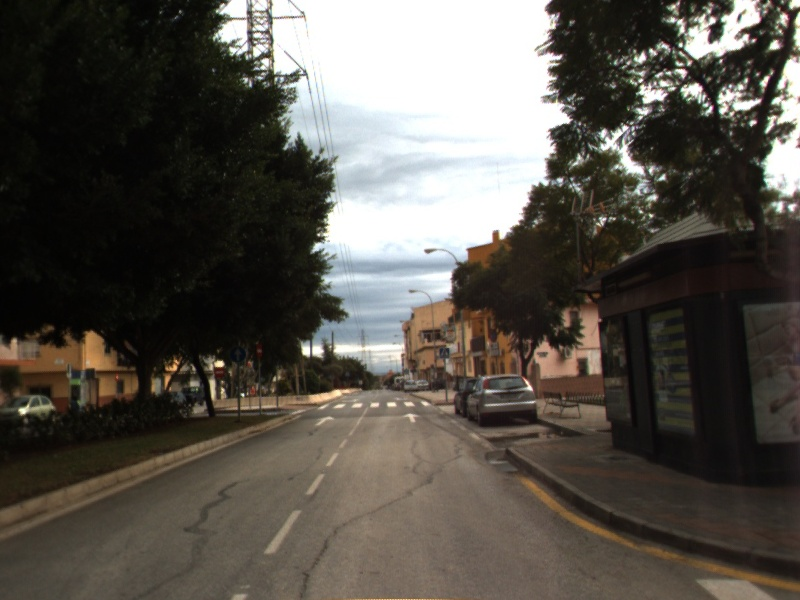STRAIGHT: (312, 414, 337, 428), (400, 411, 424, 424)
